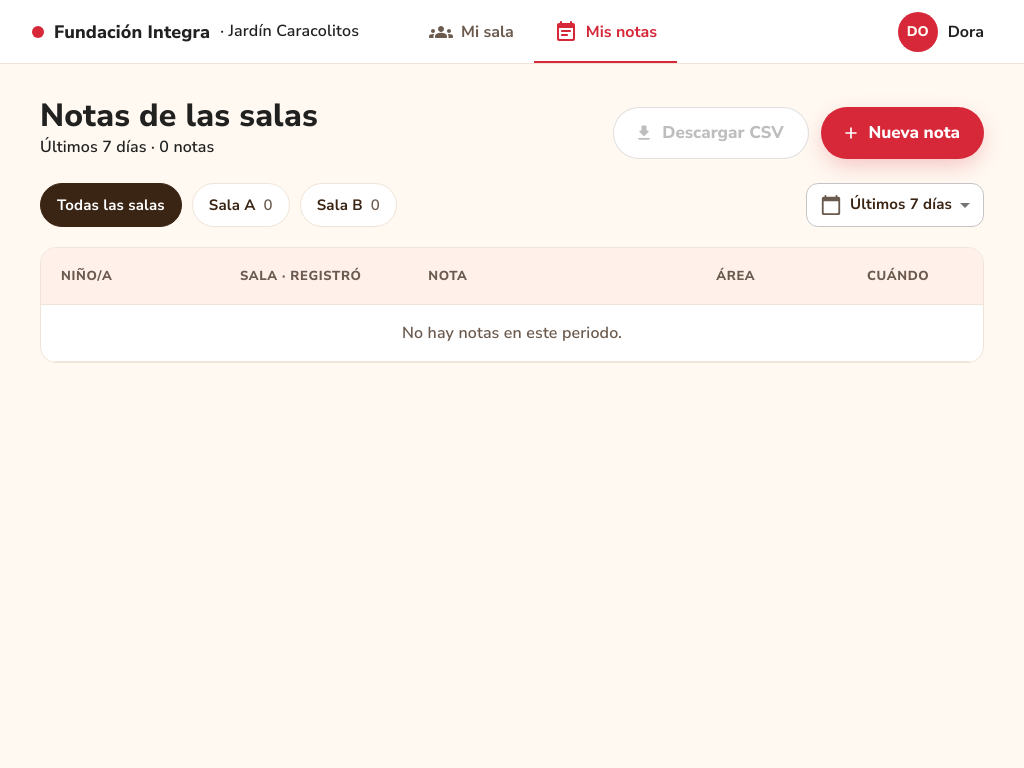
Test: estado de la sala › Mi sala muestra el estado por área y resalta a quien queda para revisar
Click the tab "Mi sala".
click(471, 32)  # box [409,0,534,64]
(page scrolled)
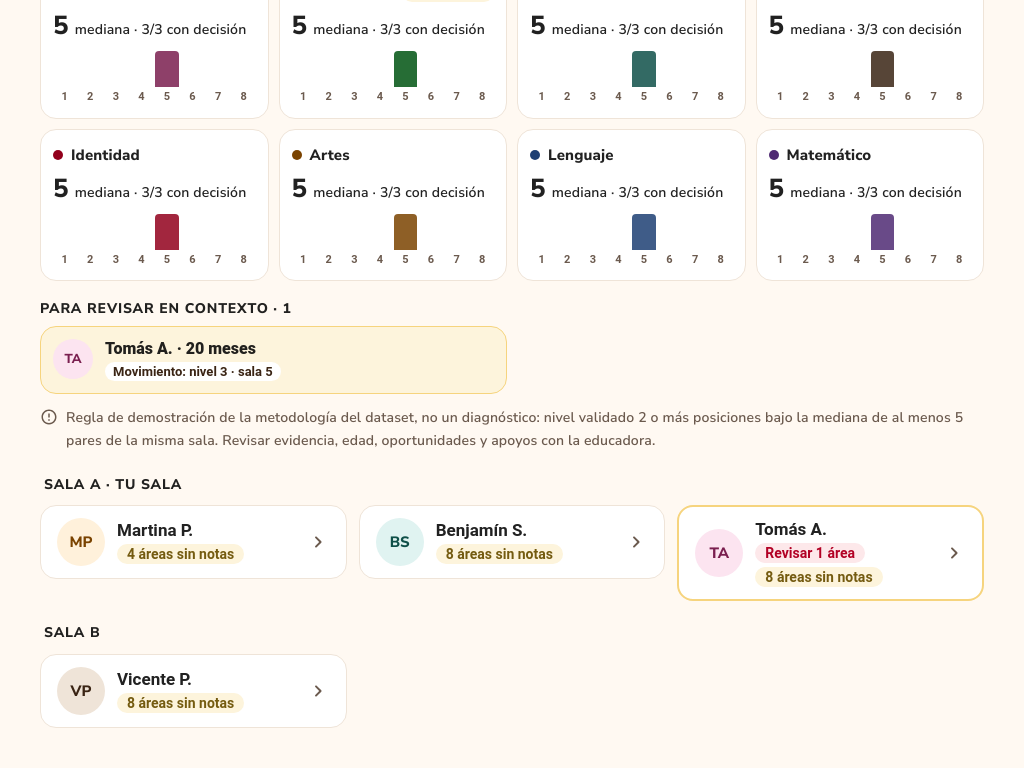
Check: the heading "Para revisar en contexto · 1" is shown, box [40,299,292,318]
Check: the button with aria-label "Revisar a Tomás A." shows "Movimiento: nivel 3 · sala 5", box [40,326,507,394]
Check: the text "no un diagnóstico" is shown, box [66,408,634,427]
